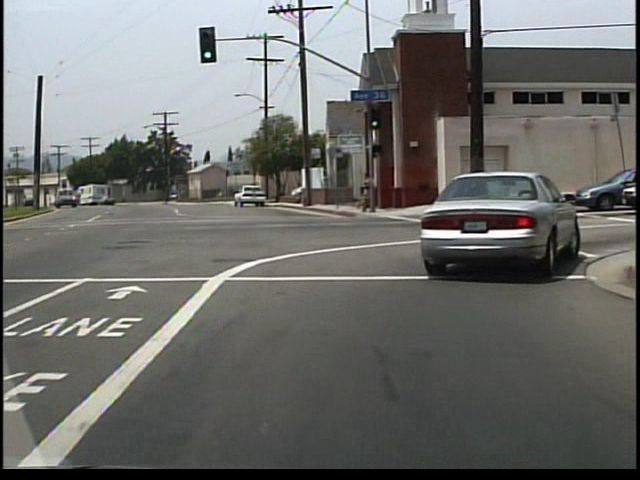person: (357, 172, 372, 213)
